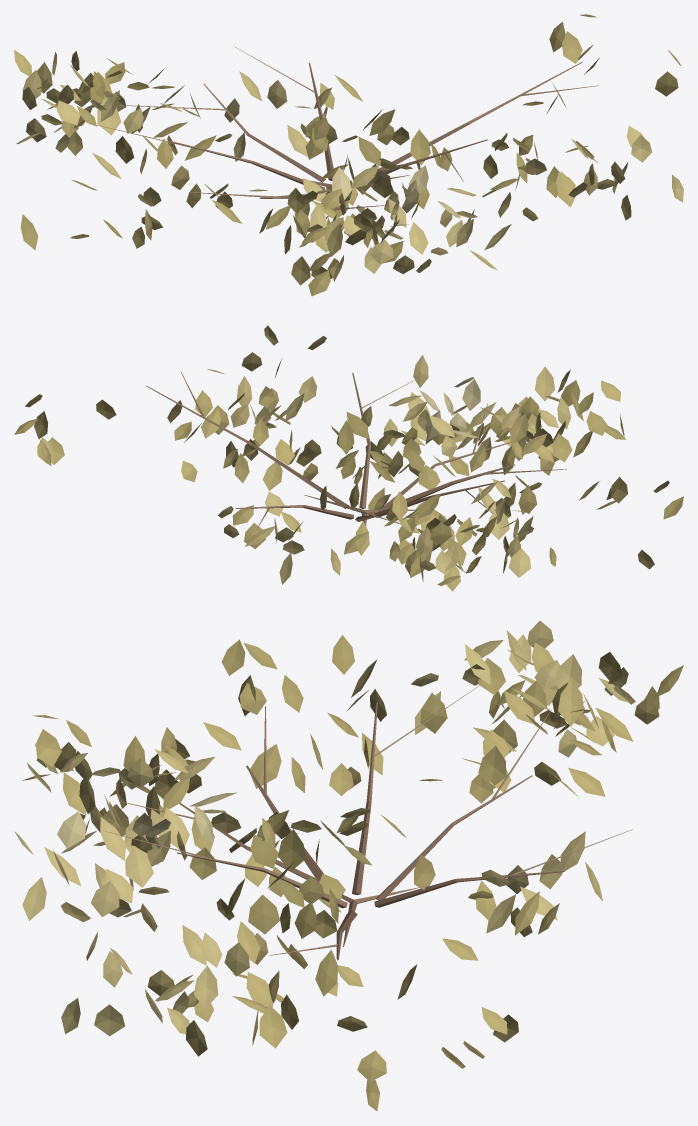
File: bush_3d_04_yellow.glb
3 renders of one model, top to bottom at view 1: azimuth 30°, elevation 25°; view 2: azimuth 150°, elevation 25°; view 3: azimuth 270°, elevation 25°, orthographic. The views are drawn at different scales.
Parts seen in each view (by area): view 1: bush_3d_04_yellow_foliage, bush_3d_04_yellow_wood; view 2: bush_3d_04_yellow_foliage, bush_3d_04_yellow_wood; view 3: bush_3d_04_yellow_foliage, bush_3d_04_yellow_wood.
Boxes of the visible parts, <box> form: bush_3d_04_yellow_foliage: <box>14,14,683,296</box>; bush_3d_04_yellow_wood: <box>90,46,598,218</box>; bush_3d_04_yellow_foliage: <box>14,325,683,591</box>; bush_3d_04_yellow_wood: <box>146,371,566,539</box>; bush_3d_04_yellow_foliage: <box>14,620,683,1110</box>; bush_3d_04_yellow_wood: <box>104,685,632,960</box>.
Bounding box in the file's own units: 3.8 × 0.75 × 2.6.
